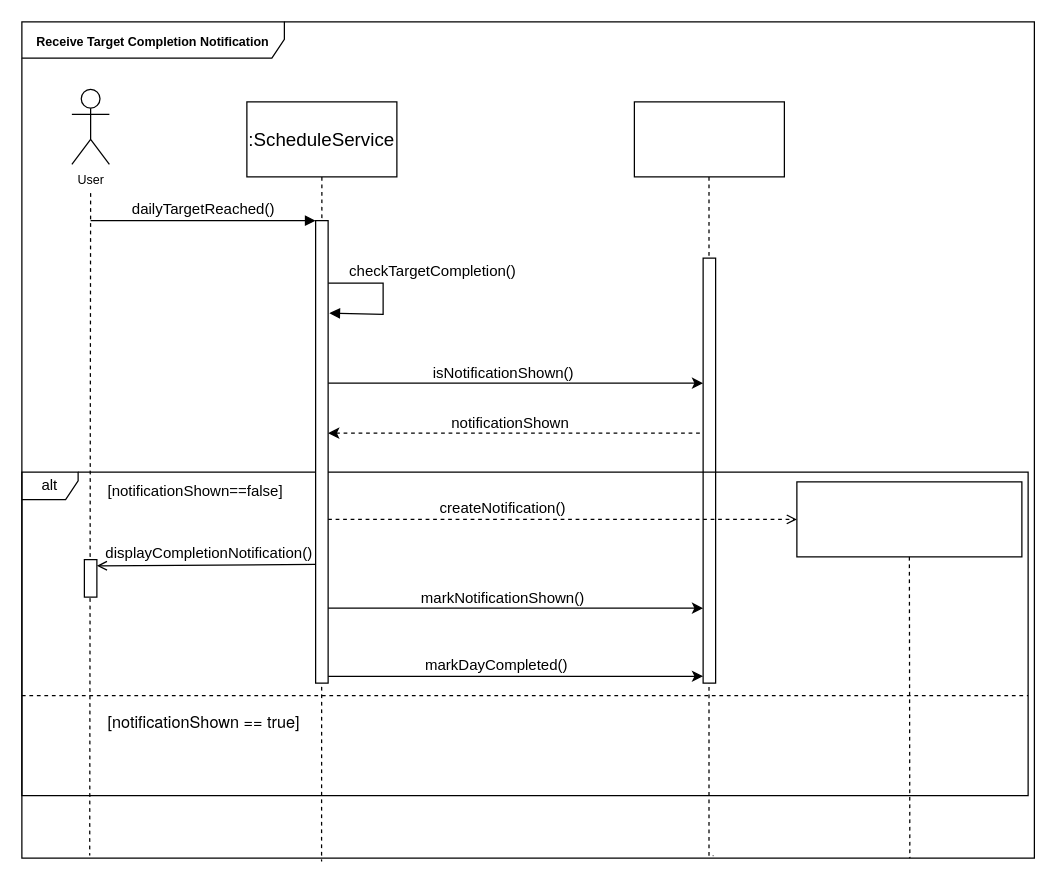
This 1056x885 diagram has some shape labels left out. Here are the shapes that lost their labels. From the top down, the centre of each, then its label:
At [708,139]: "DailyProgress:".
At [909,519]: "Completion Notification :".
